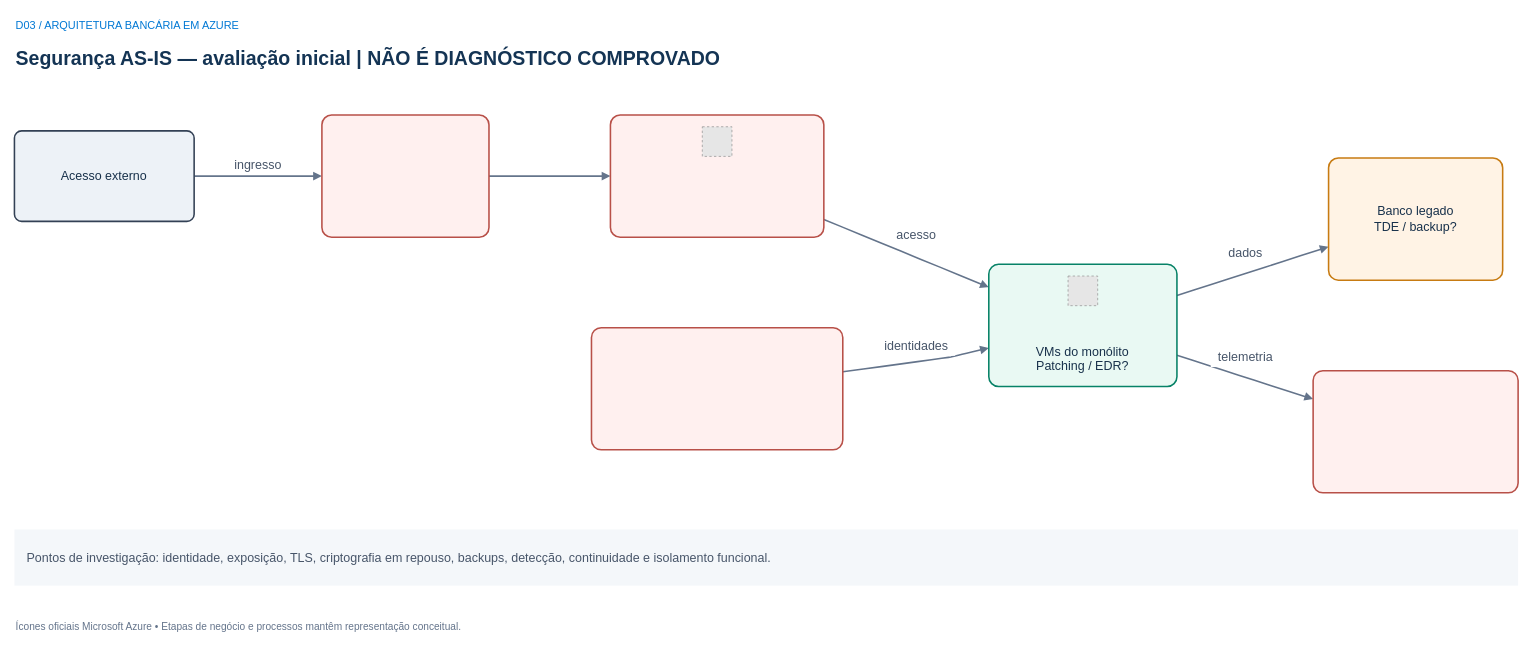
This 1532x651 diagram has some shape labels left out. Grey dashed boxes stand in for pictures. Here are the shapes that lost their labels. From the top down, the box of each, then its label:
(321, 114, 489, 238): Borda / WAF? Verificar
(520, 154, 559, 174): rede
(609, 114, 824, 238): VNet / NSG / UDR? Verificar
(590, 327, 843, 450): Identidades / segredos? Verificar
(1312, 369, 1519, 493): Logs / SIEM / DR? Verificar
